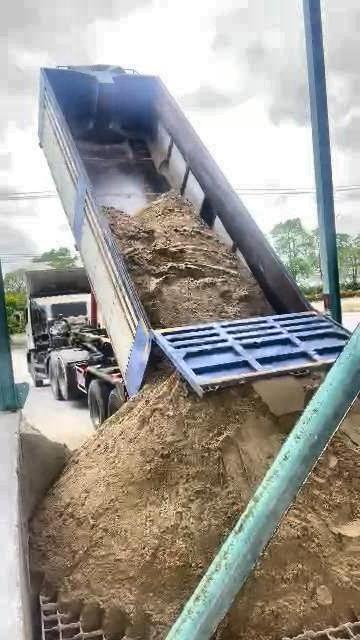sand: (31, 348, 295, 639), (217, 434, 360, 639), (105, 195, 273, 327), (19, 423, 70, 521), (252, 373, 324, 417), (344, 398, 360, 443)
